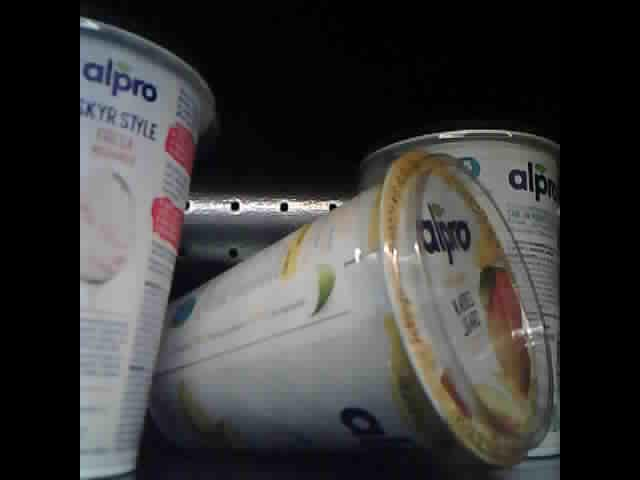alpro: (148, 146, 552, 473), (359, 129, 560, 459), (81, 8, 218, 477)
